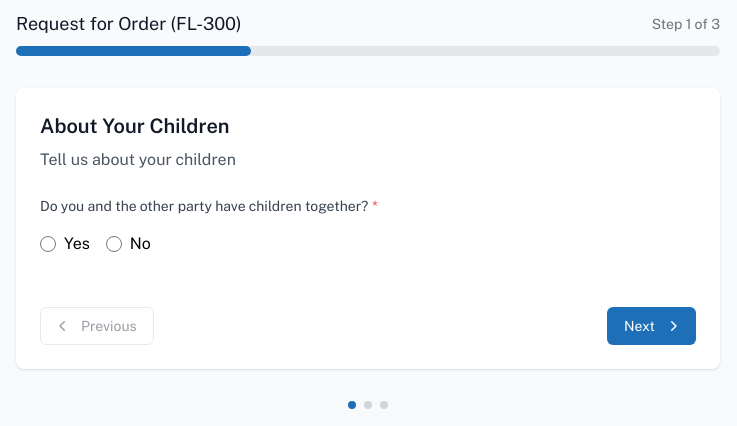
GuidedIntake cross-step conditional questions › answering No on step 1 keeps the conditional question hidden on step 2
Click the radio button labelled "No": (114,244) [106,236,122,252]
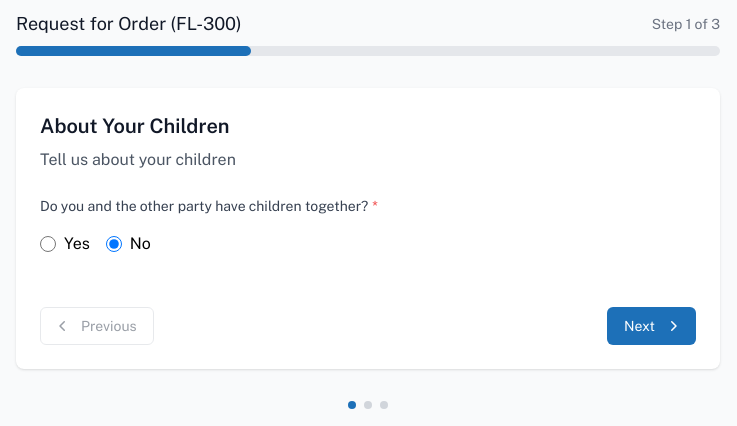
Click the button "Next": (652,326) [607,307,696,345]
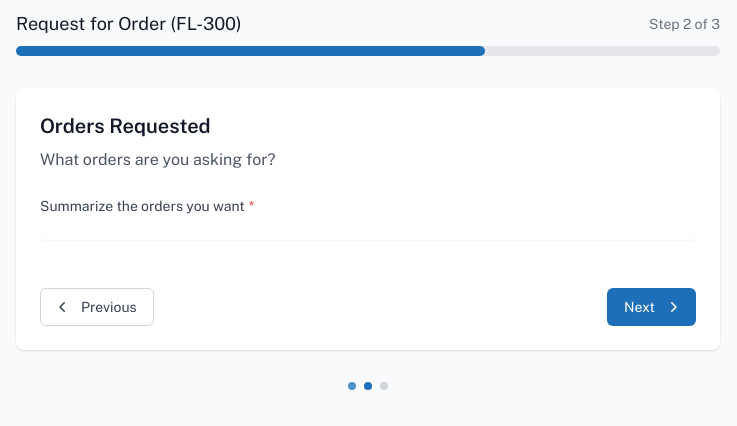
Check: the heading "Orders Requested" is shown, box [40,114,211,138]
